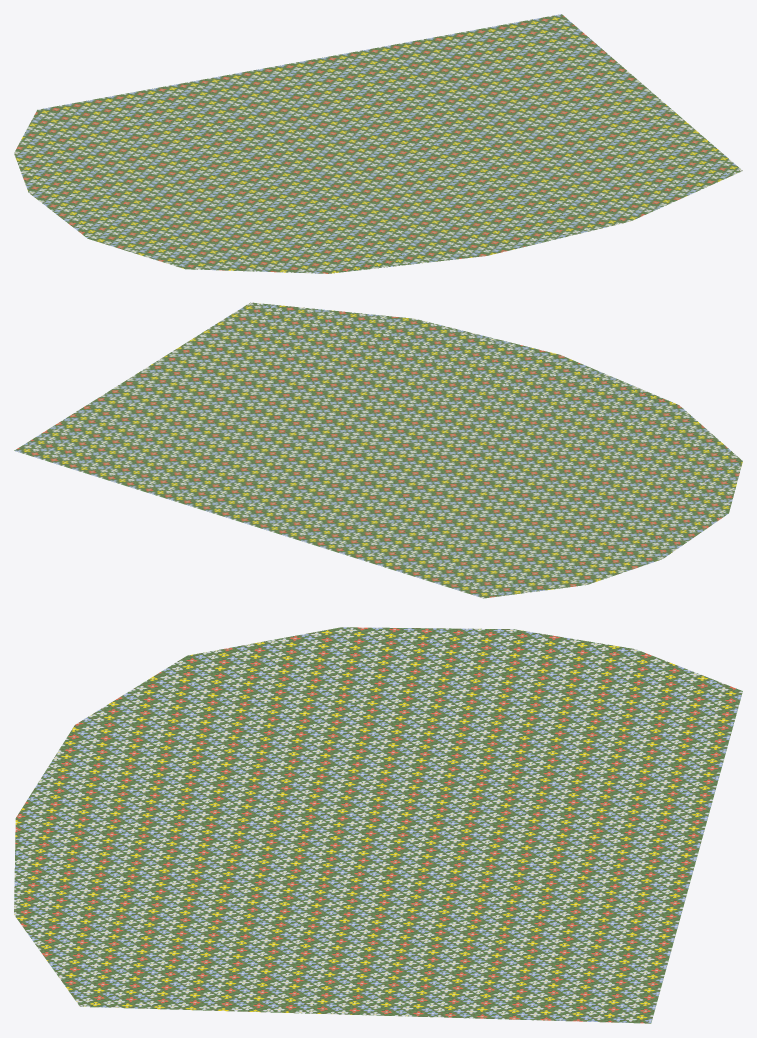
File: kd_stage_1363c5_6_25_bounded.glb
3 views of the same model, one above another, from view 1: azimuth 30°, elevation 25°; view 2: azimuth 150°, elevation 25°; view 3: azimuth 270°, elevation 25° (orthographic). The views are drawn at different scales.
Parts seen in each view (by area): view 1: kd_stage_1363c5_6_25_bounded; view 2: kd_stage_1363c5_6_25_bounded; view 3: kd_stage_1363c5_6_25_bounded.
Boxes of the visible parts, <box> form: kd_stage_1363c5_6_25_bounded: <box>14,14,742,273</box>; kd_stage_1363c5_6_25_bounded: <box>14,302,742,598</box>; kd_stage_1363c5_6_25_bounded: <box>14,627,742,1023</box>.
Size of the model in its own units: 21.2 by 2.38e-06 by 16.48.
Materials: 1 (1 with a texture image).
